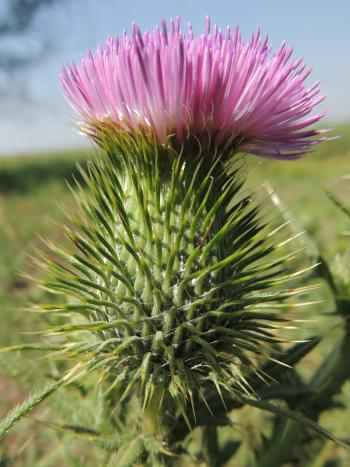thistle: (34, 15, 331, 407)
